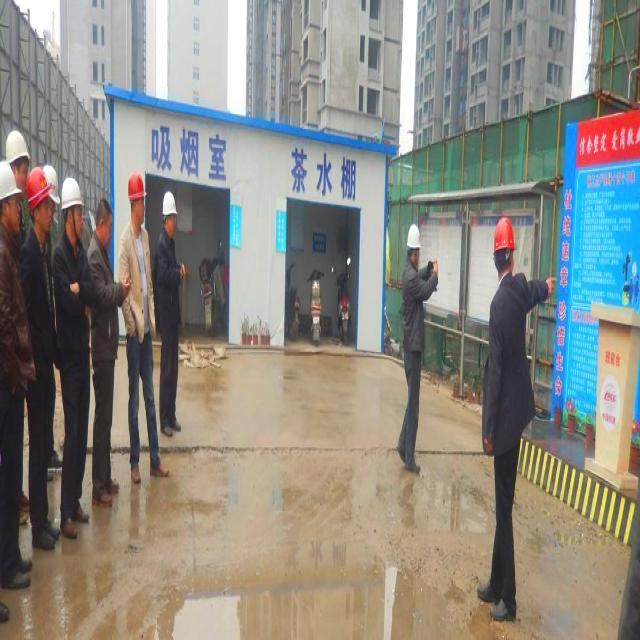face_nomask: (4, 195, 25, 232), (35, 195, 52, 238), (66, 201, 85, 239), (97, 215, 115, 250), (129, 196, 147, 228), (165, 210, 178, 244)
hand_noglove: (544, 273, 560, 300), (122, 269, 132, 310), (432, 251, 441, 288), (177, 257, 187, 289)
head_helmet: (490, 215, 515, 254), (26, 175, 50, 205), (59, 179, 82, 208), (6, 133, 30, 159), (1, 160, 18, 196), (160, 186, 179, 212), (406, 223, 422, 253), (47, 165, 59, 201), (128, 174, 144, 196)
person: (484, 216, 527, 607), (2, 168, 32, 590), (117, 162, 155, 484), (396, 219, 439, 473), (60, 172, 90, 520), (29, 179, 56, 552), (92, 201, 120, 508), (158, 178, 189, 439)
shoes: (4, 554, 32, 594), (476, 570, 506, 604), (30, 516, 56, 554), (487, 591, 516, 622), (58, 512, 82, 544), (401, 443, 422, 478), (91, 480, 113, 510), (148, 455, 170, 479), (128, 462, 142, 488), (168, 411, 182, 431), (160, 416, 172, 439)
